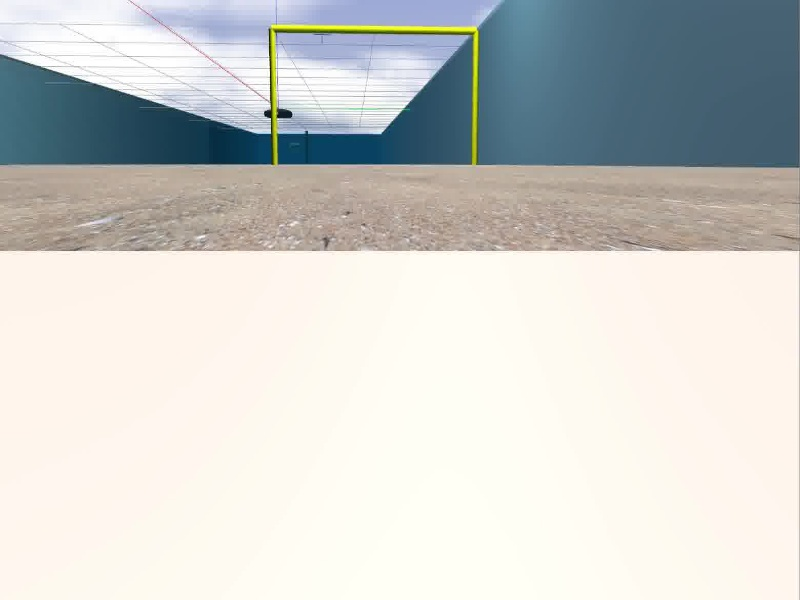gate: (269, 22, 480, 165)
